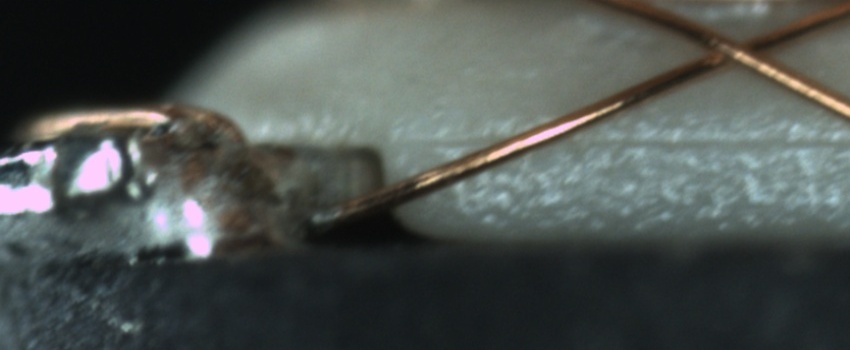CL: (687, 19, 786, 77)
DL: (405, 109, 850, 171)
TE: (30, 102, 259, 153)
